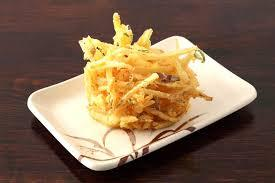kakiage: (85, 28, 203, 125)
